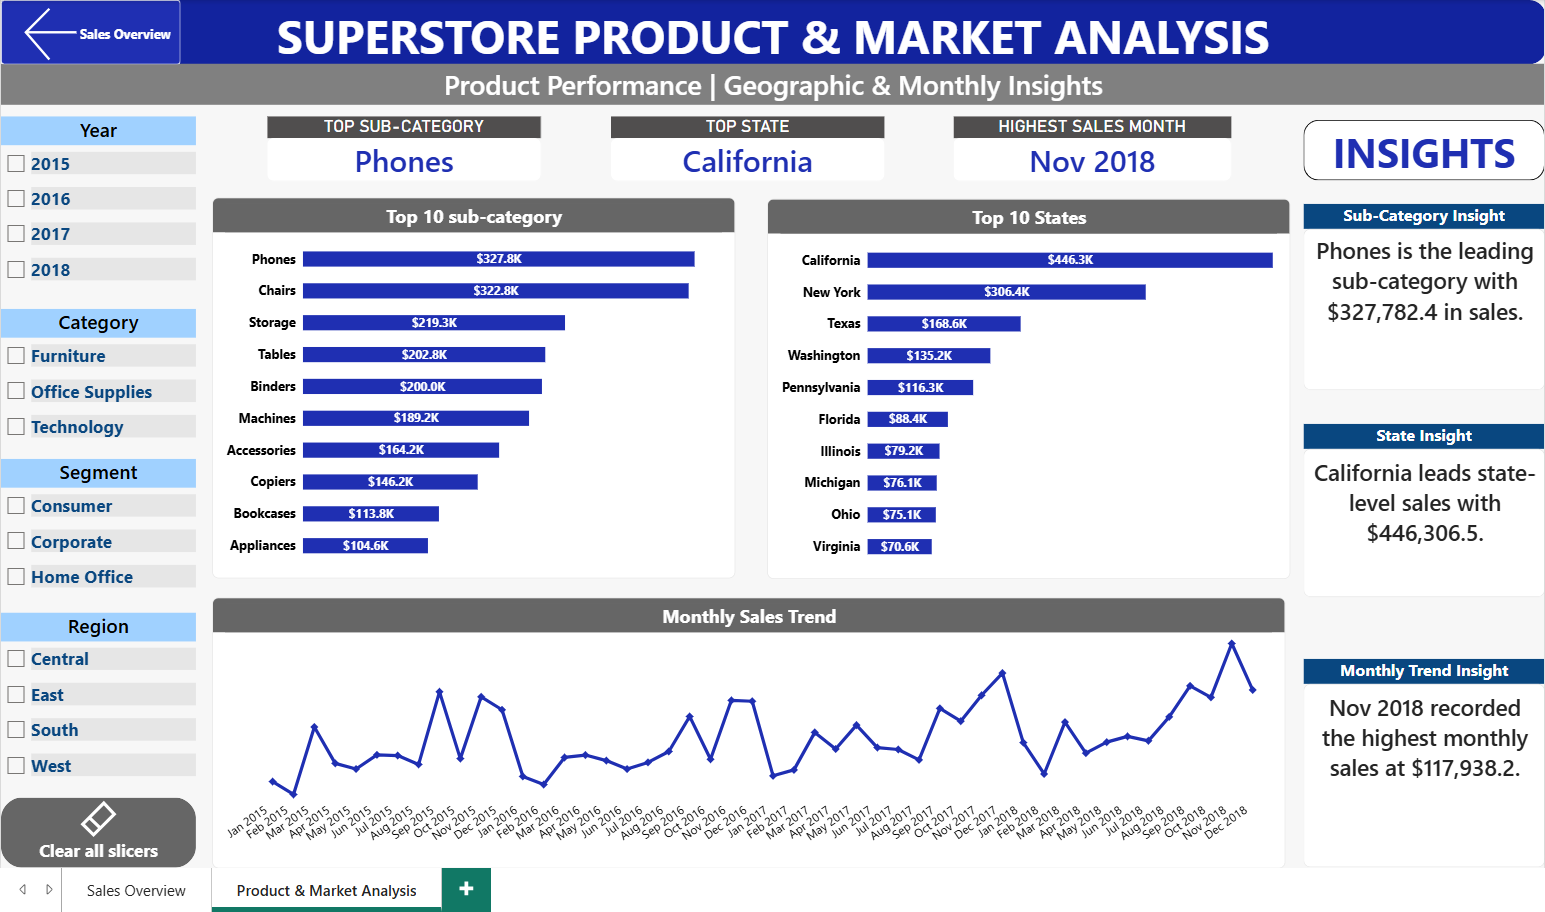

The dashboard page shown, as its layout file describes it:
{"tool":"powerbi","page":{"name":"Product & Market Analysis","canvas":[1920,1080],"ordinal":1},"visuals":[{"type":"shape","box":[0,0,1920.8,80],"z":0},{"type":"shape","box":[0,80,1920.8,51],"z":1000},{"type":"cardVisual","title":"TOP SUB-CATEGORY","fields":{"Data":["Sales.Top SubCategory Sales"]},"box":[331.4,144.8,340.1,80.2],"z":2000},{"type":"cardVisual","title":"TOP STATE","fields":{"Data":["Sales.Top State"]},"box":[758.7,144.8,340.1,80.2],"z":3000},{"type":"cardVisual","title":"HIGHEST SALES MONTH","fields":{"Data":["Sales.Top Month"]},"box":[1184.3,144.8,345.3,80.2],"z":4000},{"type":"slicer","title":"Year","fields":{"Values":["DateTable.Year"]},"box":[0,144.8,242.4,218],"z":5000},{"type":"slicer","title":"Region","fields":{"Values":["Sales.Region"]},"box":[0,762.2,242.4,211],"z":6000},{"type":"slicer","title":"Category","fields":{"Values":["Sales.Category"]},"box":[0,383.7,242.4,169.2],"z":7000},{"type":"slicer","title":"Segment","fields":{"Values":["Sales.Segment"]},"box":[0,570.4,242.4,172.7],"z":8000},{"type":"clusteredBarChart","title":"Top 10 sub-category","fields":{"Category":["Sales.Sub-Category"],"Y":["Sales.Total Sales"]},"box":[263.4,245.9,650,473.4],"z":9000},{"type":"clusteredBarChart","title":"Top 10 States","fields":{"Category":["Sales.State"],"Y":["Sales.Total Sales"]},"box":[952.3,247.7,650,473],"z":10000},{"type":"lineChart","title":"Monthly Sales Trend","fields":{"Category":["DateTable.Month Year"],"Y":["Sales.Total Sales"]},"box":[263.4,743,1334.3,336.6],"z":11000},{"type":"actionButton","box":[0,992.4,242.4,87.2],"z":12000},{"type":"shape","box":[1620.4,150,300,75],"z":13000},{"type":"cardVisual","title":"Sub-Category Insight","fields":{"Data":["Sales.Sub-Category Insight"]},"box":[1620.4,252.9,300,232],"z":14000},{"type":"cardVisual","title":"Monthly Trend Insight","fields":{"Data":["DateTable.Monthly Insight"]},"box":[1620.4,819.8,300,259.9],"z":15000},{"type":"cardVisual","title":"State Insight","fields":{"Data":["DateTable.State Insight"]},"box":[1620.4,526.7,300,216.3],"z":16000},{"type":"actionButton","box":[0,0,223.3,80.2],"z":17000}]}

Visuals, with their boxes on the page's 1920x1080 design canvas (x1, y1, x2, y2). These are canvas units, not pixel positions in the 1545x912 screenshot, which may show the page scaled, cropped or inside an application window:
shape: (0,0,1921,80)
shape: (0,80,1921,131)
"TOP SUB-CATEGORY" cardVisual: (331,145,672,225)
"TOP STATE" cardVisual: (759,145,1099,225)
"HIGHEST SALES MONTH" cardVisual: (1184,145,1530,225)
"Year" slicer: (0,145,242,363)
"Region" slicer: (0,762,242,973)
"Category" slicer: (0,384,242,553)
"Segment" slicer: (0,570,242,743)
"Top 10 sub-category" clusteredBarChart: (263,246,913,719)
"Top 10 States" clusteredBarChart: (952,248,1602,721)
"Monthly Sales Trend" lineChart: (263,743,1598,1080)
actionButton: (0,992,242,1080)
shape: (1620,150,1920,225)
"Sub-Category Insight" cardVisual: (1620,253,1920,485)
"Monthly Trend Insight" cardVisual: (1620,820,1920,1080)
"State Insight" cardVisual: (1620,527,1920,743)
actionButton: (0,0,223,80)
